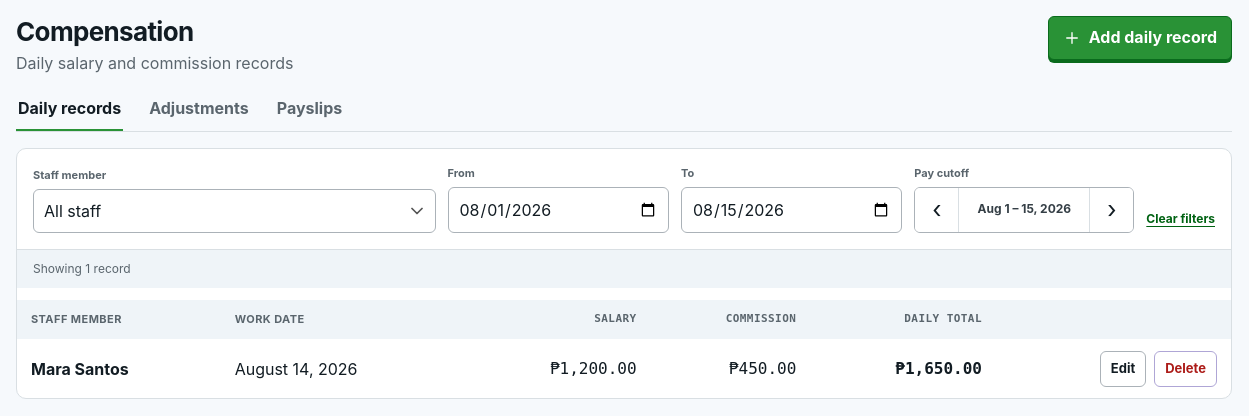
Scenario: CompensationPage › steps both directions in payslips without changing staff or generating
This screenshot has width=1249, height=416.
Click the button "Payslips" at (309, 109), box [275,87,344,131]
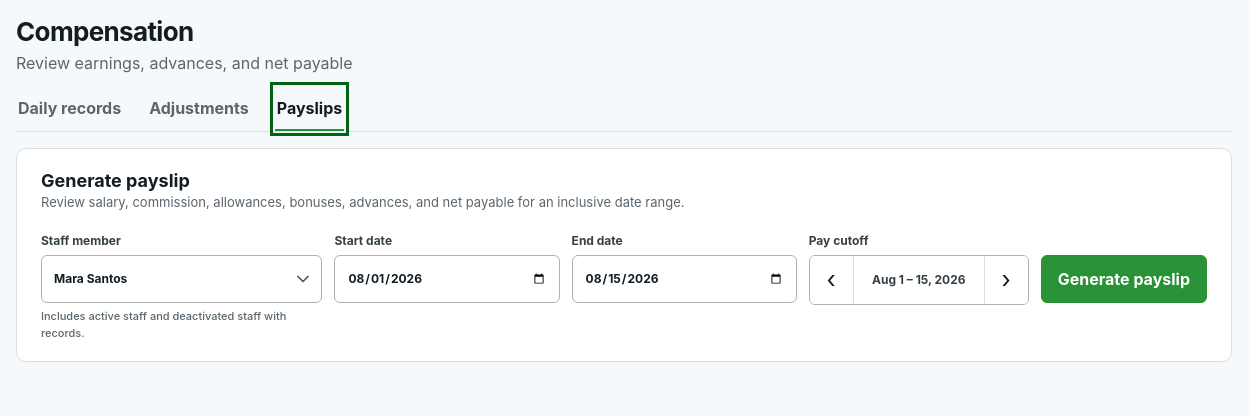
Now the dropdown labelled "Staff member" shows "Mara Santos", box [41,255,322,303]
Click the button named "Next cutoff" at (1006, 280), box [984,256,1028,304]
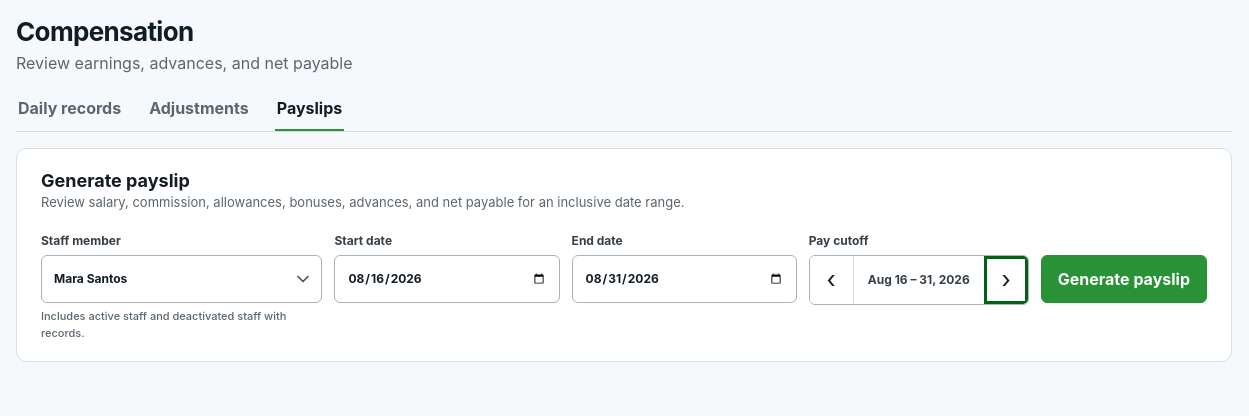
Now the dropdown labelled "Staff member" shows "Mara Santos", box [41,255,322,303]
Now the date field labelled "Start date" holds "2026-08-16", box [334,255,560,303]
Now the date field labelled "End date" holds "2026-08-31", box [572,255,797,303]
Click the button named "Previous cutoff" at (832, 280), box [810,256,854,304]
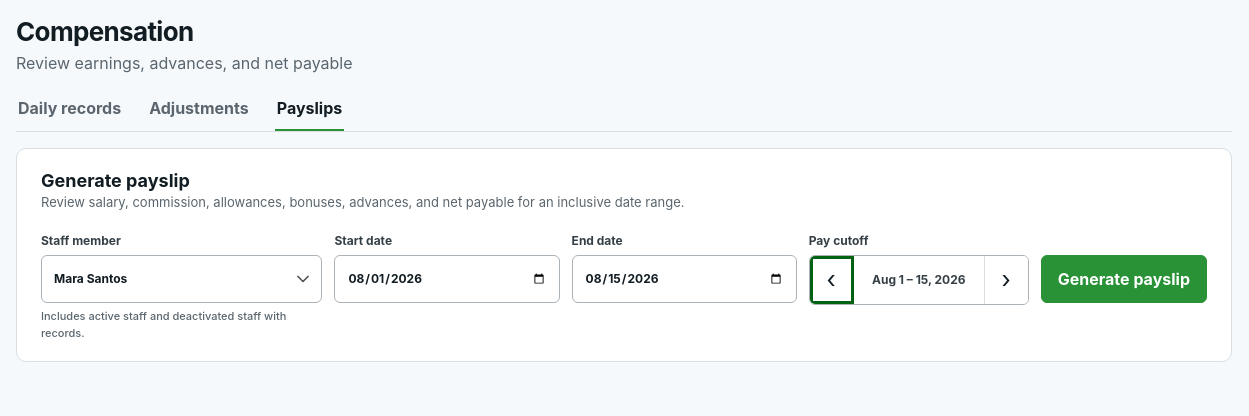
Now the dropdown labelled "Staff member" shows "Mara Santos", box [41,255,322,303]
Now the date field labelled "Start date" holds "2026-08-01", box [334,255,560,303]
Now the date field labelled "End date" holds "2026-08-15", box [572,255,797,303]
